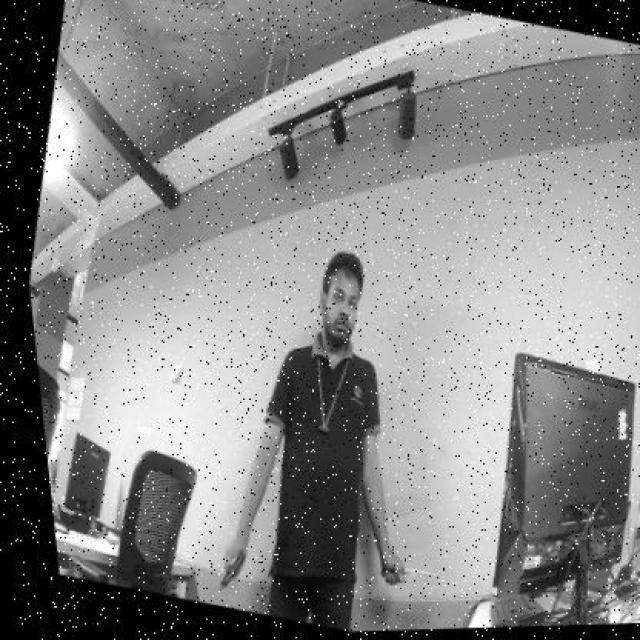weapon: (218, 540, 250, 594)
